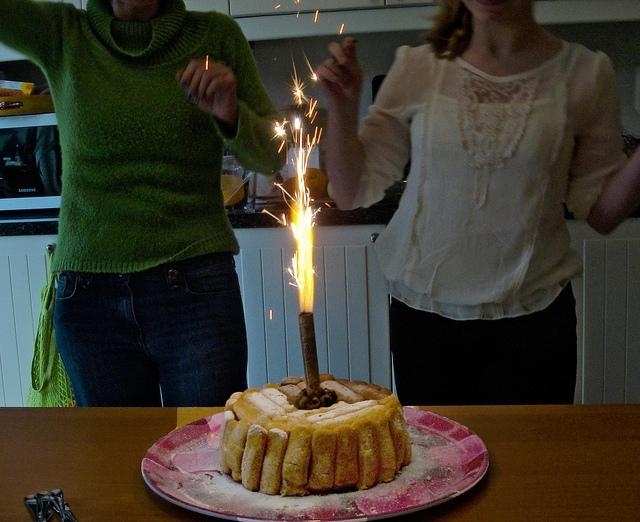orange: (304, 168, 328, 198), (280, 177, 300, 201)
